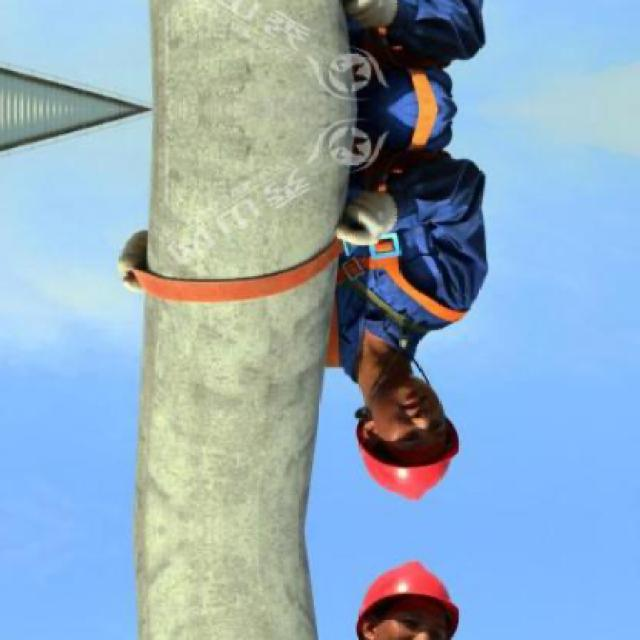con casco: (336, 382, 466, 500)
